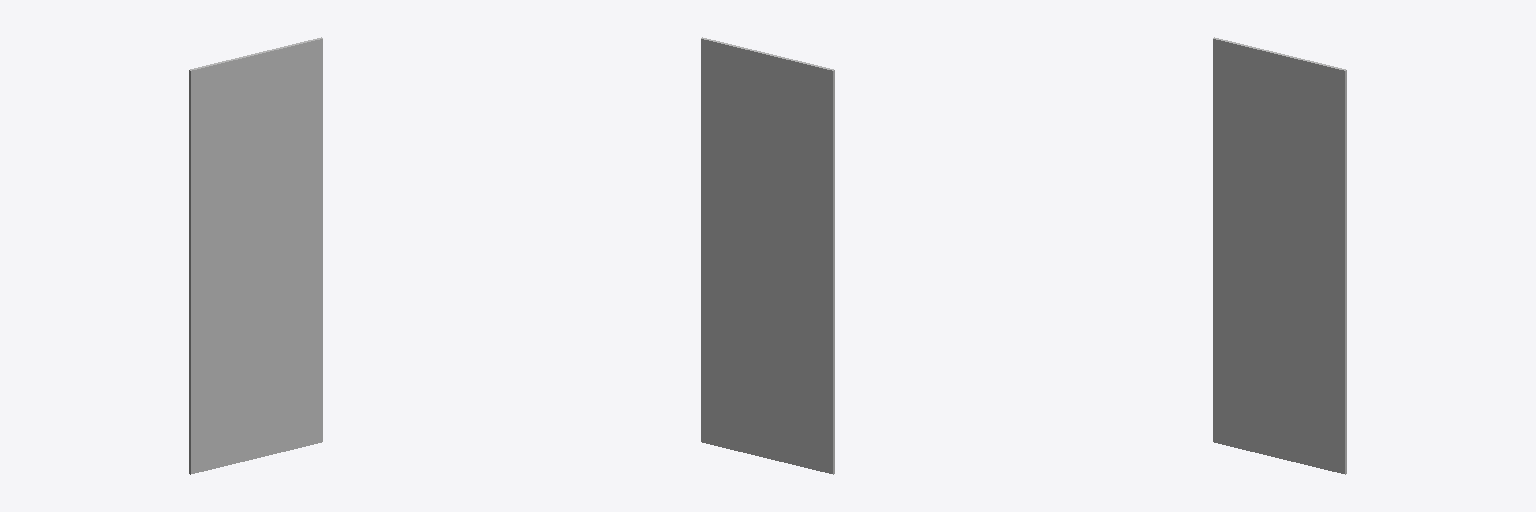
The model's file is wall_blue.obj.
The picture shows the model from 3 angles: view 1: azimuth 30°, elevation 25°; view 2: azimuth 150°, elevation 25°; view 3: azimuth 330°, elevation 25°; orthographic projection.
Visible parts, largest first — view 1: object 1; view 2: object 1; view 3: object 1.
Boxes of the visible parts, x1=… form: object 1: x1=189, y1=37, x2=322, y2=474; object 1: x1=701, y1=37, x2=834, y2=474; object 1: x1=1213, y1=37, x2=1346, y2=474.
Size of the model in its own units: 8.8 by 25.6 by 0.2.